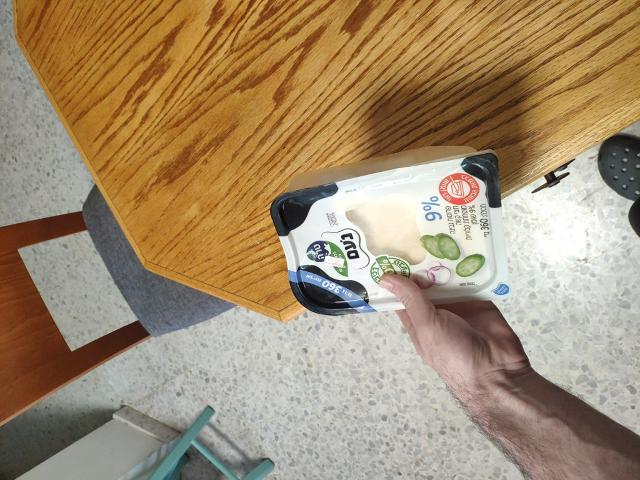cheese: (296, 151, 466, 336)
